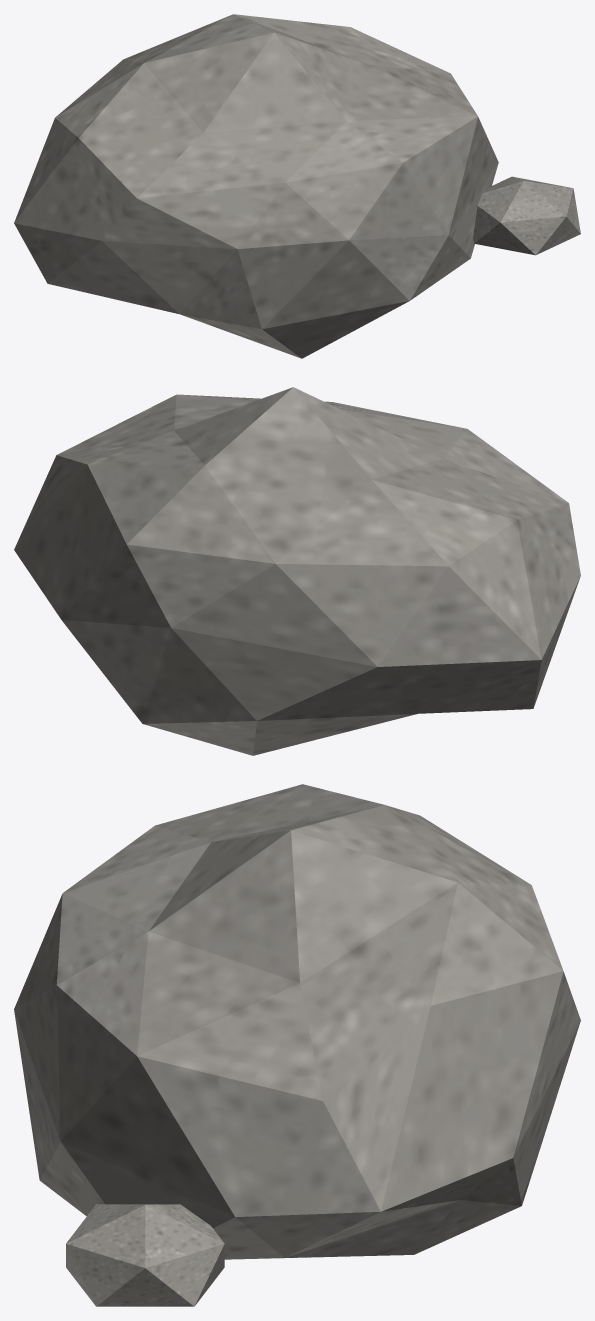
File: rock.glb
The picture shows the model from 3 angles, top to bottom: view 1: azimuth 30°, elevation 25°; view 2: azimuth 150°, elevation 25°; view 3: azimuth 270°, elevation 25°; orthographic projection. The views are drawn at different scales.
Parts seen in each view (by area): view 1: rock, pebble; view 2: rock; view 3: rock, pebble.
Part boxes in pixels (box(x1,y1,x2,y2)): rock: box(14, 14, 498, 358); pebble: box(473, 176, 580, 255); rock: box(14, 387, 580, 755); rock: box(14, 784, 580, 1259); pebble: box(66, 1204, 224, 1306).
Size of the model in its own units: 2.17 by 1.22 by 1.52.
Materials: 1 (1 with a texture image).
